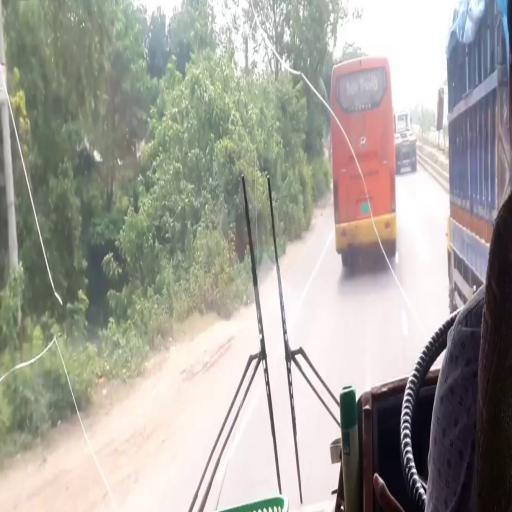bus: (332, 62, 396, 256)
truck: (440, 6, 511, 317), (396, 108, 418, 174)
